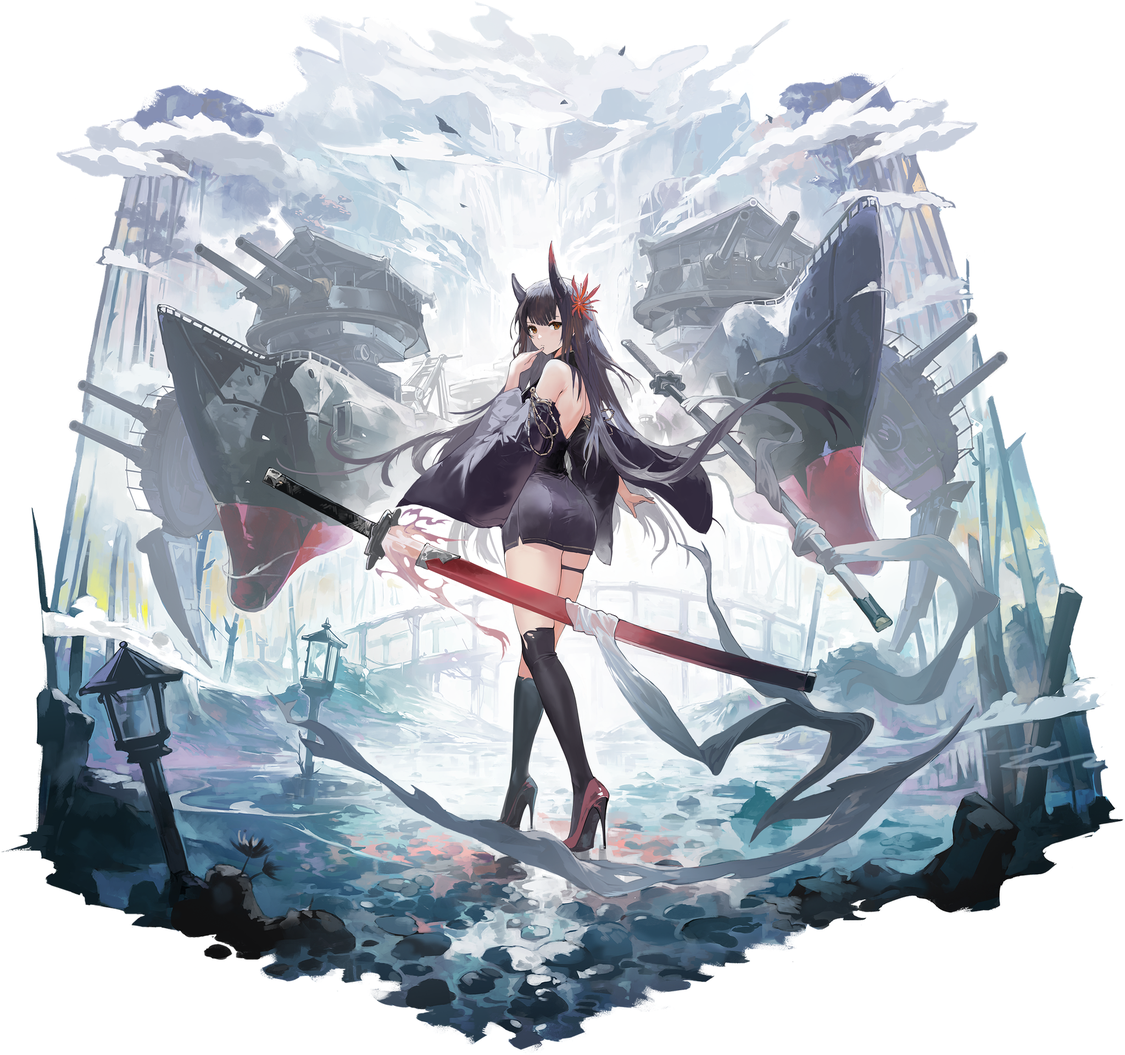person: (340, 197, 739, 899)
